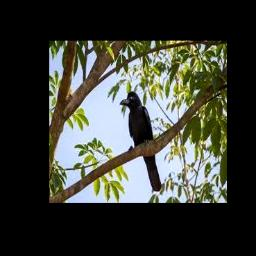Crow: (121, 91, 161, 192)
